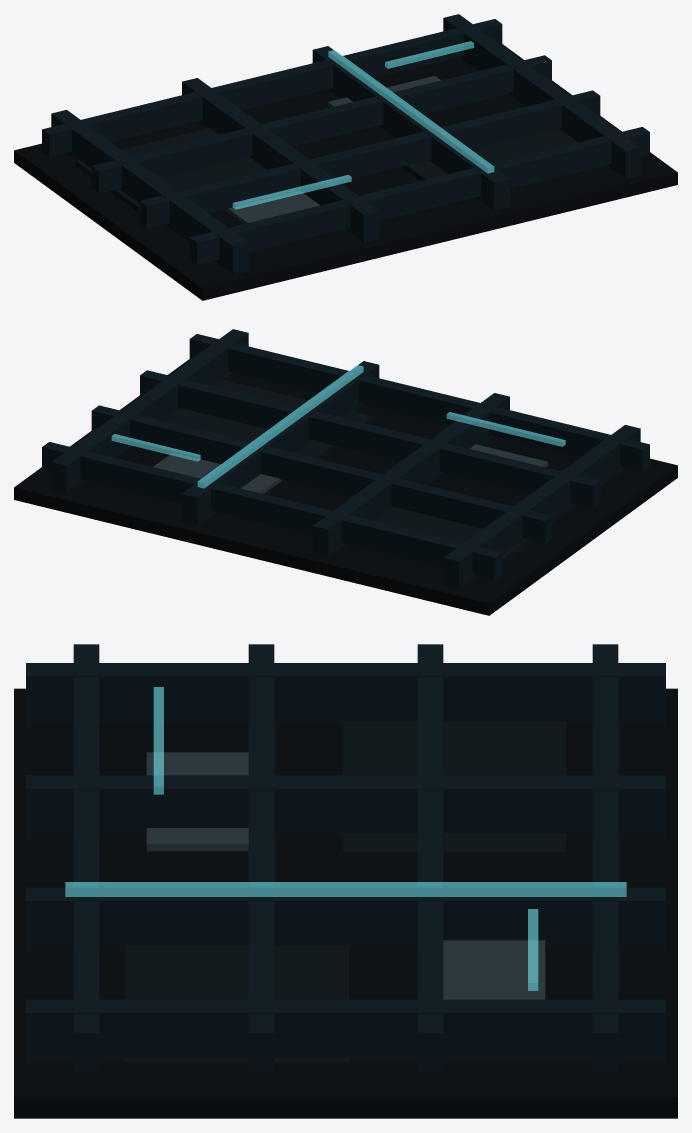
Rendered from hp_room_ceiling_panel_maintenance.glb.
3 views of the same model, one above another, from view 1: azimuth 30°, elevation 25°; view 2: azimuth 150°, elevation 25°; view 3: azimuth 270°, elevation 25° (orthographic). The views are drawn at different scales.
Parts seen in each view (by area): view 1: maintenance_ceiling_shadow_backplate, maintenance_ceiling_cross_beam_0.86, maintenance_ceiling_cross_beam_-0.28, maintenance_ceiling_cross_beam_-0.86, maintenance_ceiling_cross_beam_0.28, maintenance_ceiling_long_beam_-1.32, maintenance_ceiling_long_beam_1.32, maintenance_ceiling_long_beam_0.44, maintenance_ceiling_long_beam_-0.44, maintenance_ceiling_recess_left, maintenance_ceiling_recess_right, maintenance_ceiling_cyan_spine (+4 smaller); view 2: maintenance_ceiling_shadow_backplate, maintenance_ceiling_cross_beam_-0.86, maintenance_ceiling_cross_beam_0.28, maintenance_ceiling_cross_beam_0.86, maintenance_ceiling_cross_beam_-0.28, maintenance_ceiling_long_beam_-1.32, maintenance_ceiling_long_beam_-0.44, maintenance_ceiling_long_beam_1.32, maintenance_ceiling_long_beam_0.44, maintenance_ceiling_recess_right, maintenance_ceiling_recess_left, maintenance_ceiling_cyan_spine (+4 smaller); view 3: maintenance_ceiling_shadow_backplate, maintenance_ceiling_long_beam_1.32, maintenance_ceiling_long_beam_-1.32, maintenance_ceiling_long_beam_-0.44, maintenance_ceiling_long_beam_0.44, maintenance_ceiling_recess_left, maintenance_ceiling_recess_right, maintenance_ceiling_cross_beam_-0.86, maintenance_ceiling_cross_beam_-0.28, maintenance_ceiling_cross_beam_0.28, maintenance_ceiling_cross_beam_0.86, maintenance_ceiling_cyan_spine (+4 smaller).
Part boxes in pixels (box(x1,y1,x2,y2)): maintenance_ceiling_shadow_backplate: box(14, 44, 677, 300); maintenance_ceiling_cross_beam_0.86: box(189, 127, 649, 264); maintenance_ceiling_cross_beam_-0.28: box(91, 55, 551, 193); maintenance_ceiling_cross_beam_-0.86: box(42, 19, 502, 156); maintenance_ceiling_cross_beam_0.28: box(140, 90, 600, 228); maintenance_ceiling_long_beam_-1.32: box(51, 110, 248, 274); maintenance_ceiling_long_beam_1.32: box(443, 14, 640, 178); maintenance_ceiling_long_beam_0.44: box(312, 46, 509, 210); maintenance_ceiling_long_beam_-0.44: box(182, 78, 379, 242); maintenance_ceiling_recess_left: box(75, 128, 266, 212); maintenance_ceiling_recess_right: box(401, 128, 578, 180); maintenance_ceiling_cyan_spine: box(328, 50, 494, 173); maintenance_ceiling_shadow_backplate: box(14, 359, 677, 615); maintenance_ceiling_cross_beam_-0.86: box(42, 442, 502, 579); maintenance_ceiling_cross_beam_0.28: box(140, 370, 600, 508); maintenance_ceiling_cross_beam_0.86: box(189, 334, 649, 471); maintenance_ceiling_cross_beam_-0.28: box(91, 405, 551, 543); maintenance_ceiling_long_beam_-1.32: box(443, 425, 640, 589); maintenance_ceiling_long_beam_-0.44: box(312, 393, 509, 557); maintenance_ceiling_long_beam_1.32: box(51, 329, 248, 493); maintenance_ceiling_long_beam_0.44: box(182, 361, 379, 525); maintenance_ceiling_recess_right: box(163, 379, 372, 459); maintenance_ceiling_recess_left: box(375, 507, 554, 564); maintenance_ceiling_cyan_spine: box(197, 365, 363, 488); maintenance_ceiling_shadow_backplate: box(14, 688, 677, 1118); maintenance_ceiling_long_beam_1.32: box(26, 999, 665, 1062); maintenance_ceiling_long_beam_-1.32: box(26, 663, 665, 725); maintenance_ceiling_long_beam_-0.44: box(26, 775, 665, 837); maintenance_ceiling_long_beam_0.44: box(26, 887, 665, 949); maintenance_ceiling_recess_left: box(343, 721, 566, 861); maintenance_ceiling_recess_right: box(125, 946, 348, 1071); maintenance_ceiling_cross_beam_-0.86: box(592, 644, 618, 1072); maintenance_ceiling_cross_beam_-0.28: box(417, 644, 443, 1072); maintenance_ceiling_cross_beam_0.28: box(248, 644, 274, 1072); maintenance_ceiling_cross_beam_0.86: box(73, 644, 99, 1072); maintenance_ceiling_cyan_spine: box(65, 882, 626, 896).
Size of the model in its own units: 3.2 by 0.315 by 2.2.
